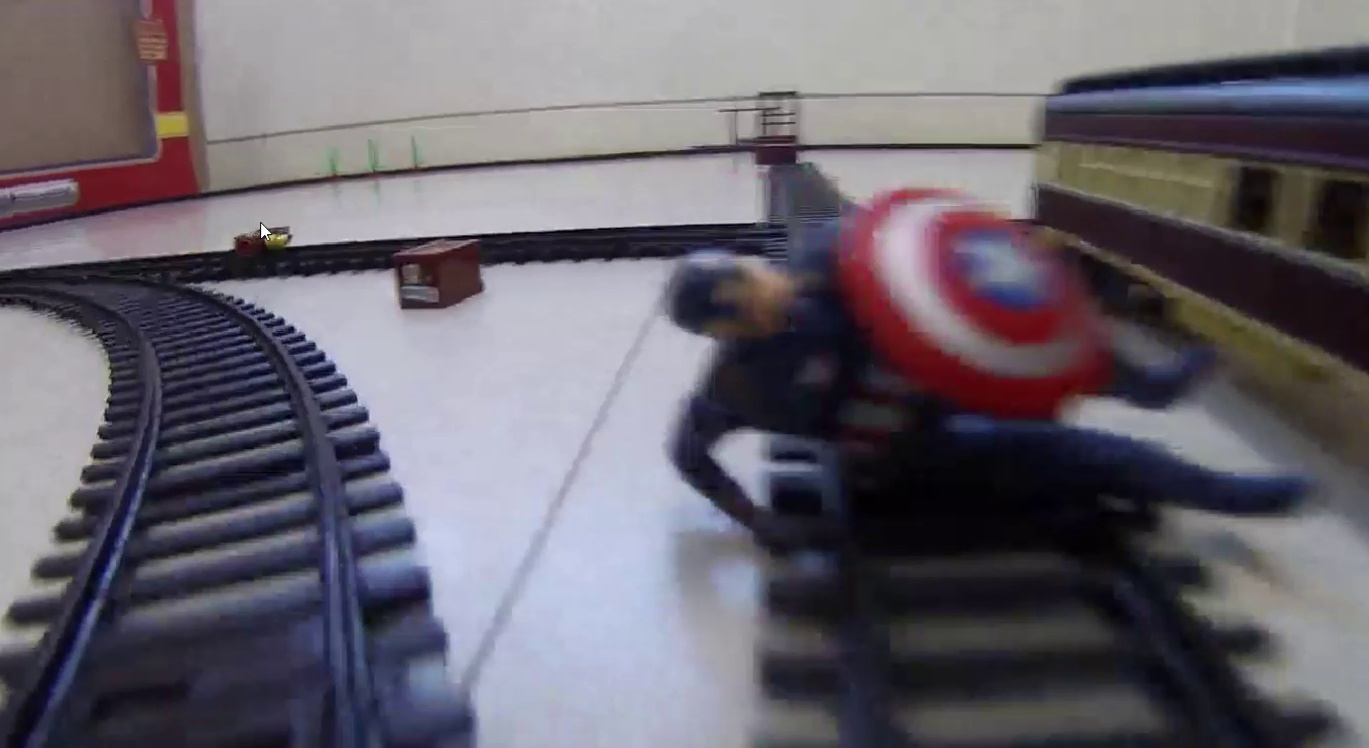box: (396, 239, 482, 311)
people: (677, 198, 1320, 514)
